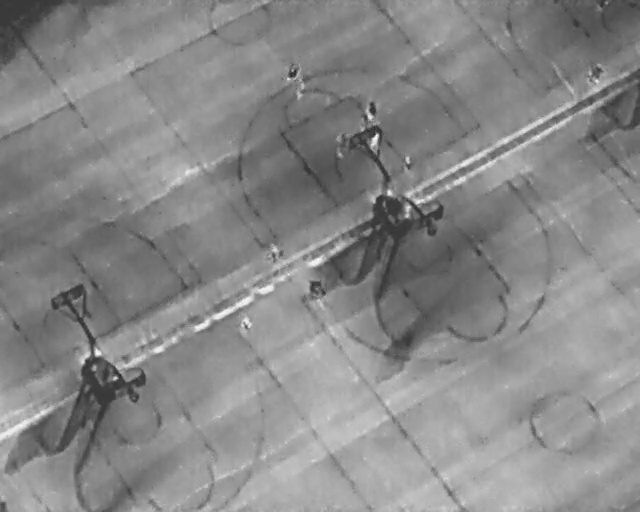Person: (584, 61, 606, 88), (281, 60, 304, 85), (363, 126, 385, 152), (265, 241, 283, 265), (365, 99, 378, 121), (238, 315, 253, 331), (402, 154, 413, 171)
